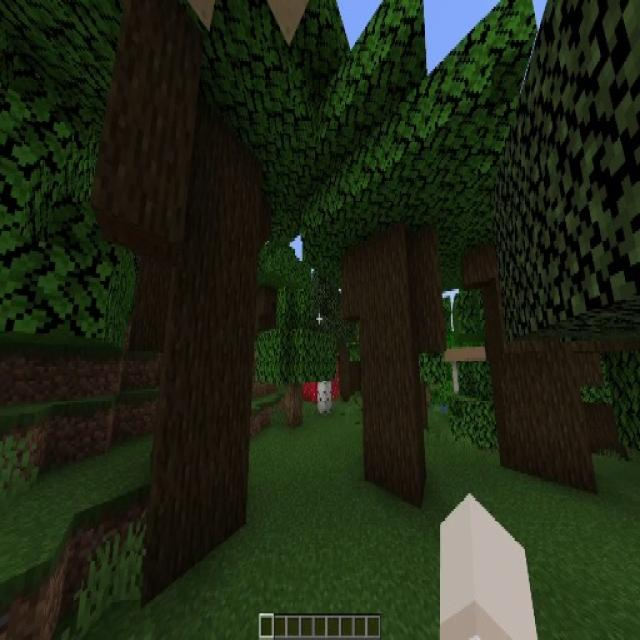birch: (297, 276, 350, 414)
birch_log: (318, 381, 332, 409)
dark_oak: (302, 2, 534, 500)
dark_oak_log: (153, 73, 251, 574), (484, 239, 591, 478), (352, 248, 424, 484)
oak: (262, 288, 329, 428)
oak_log: (284, 382, 302, 427)
